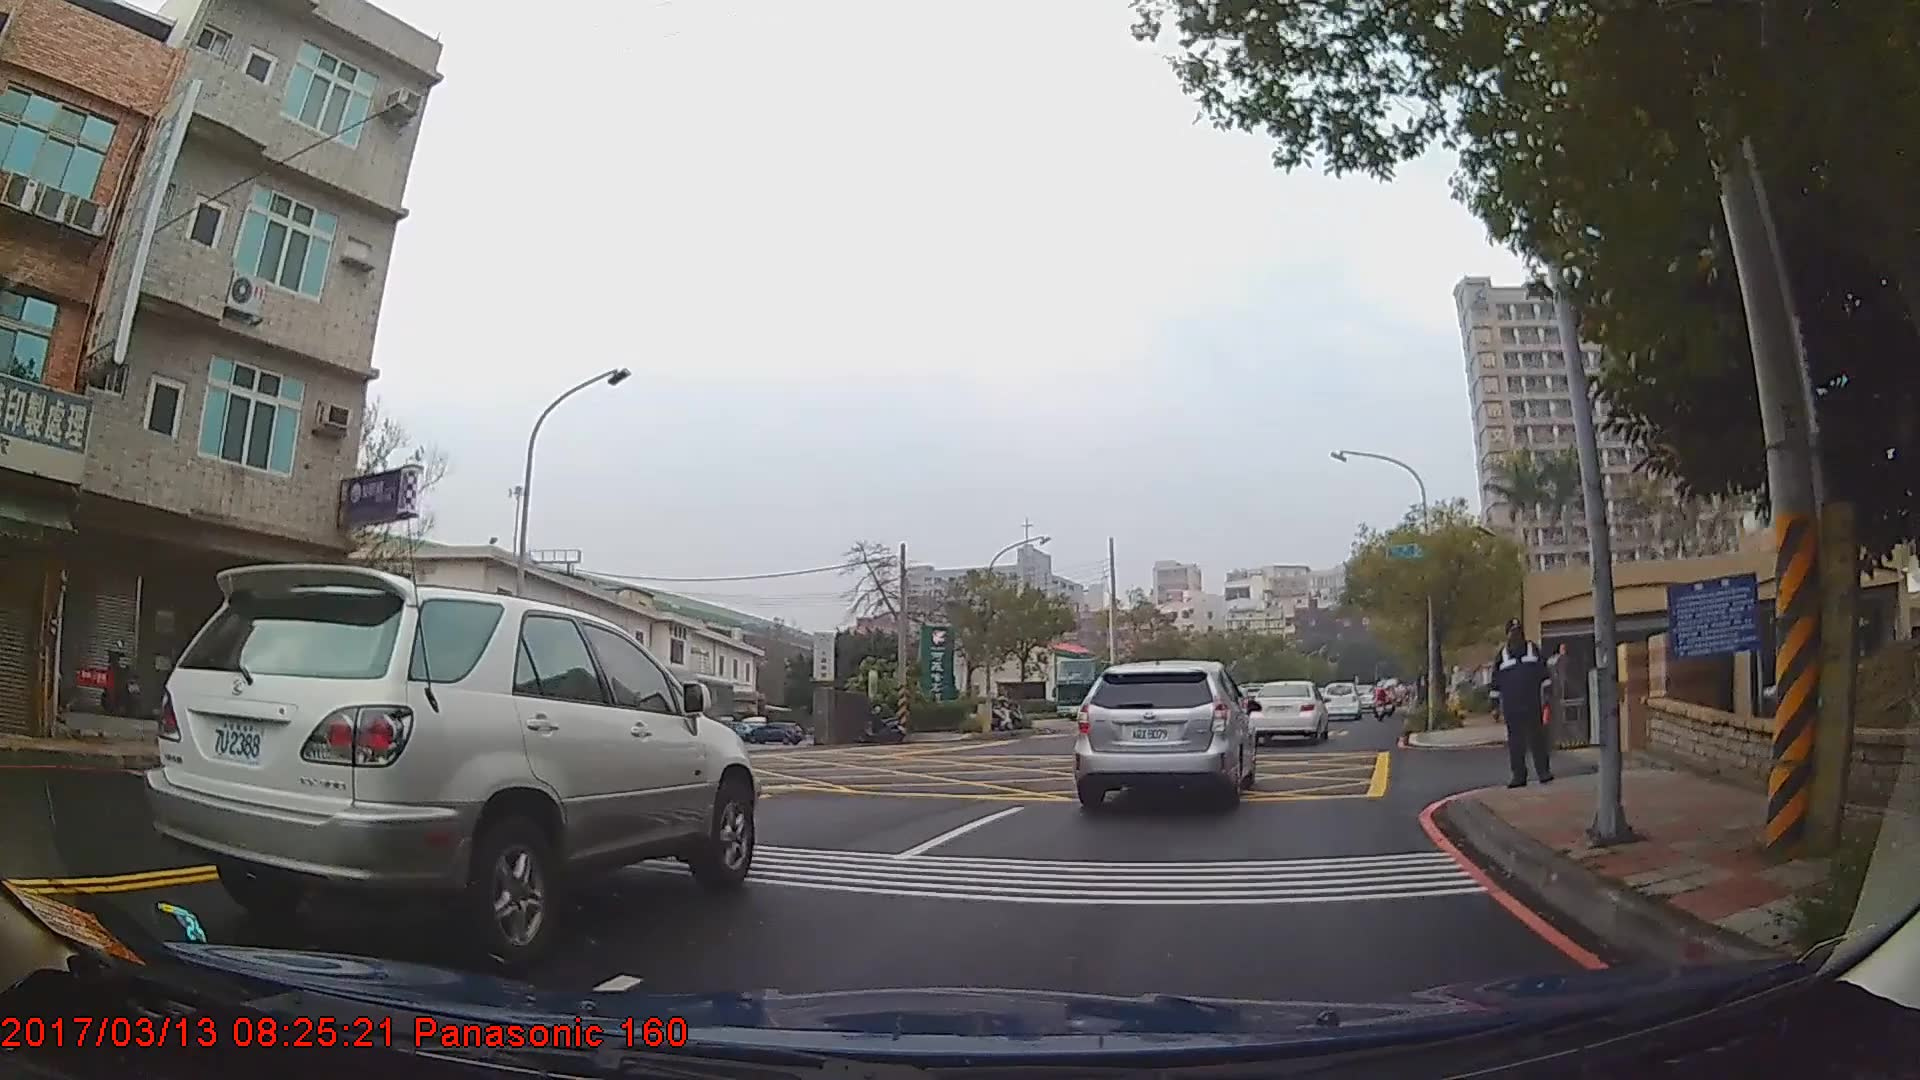pedestrian: (1490, 618, 1557, 789)
vehicle: (144, 564, 759, 967), (1072, 657, 1255, 812), (1245, 679, 1328, 745), (1320, 682, 1362, 724), (745, 722, 806, 744)
